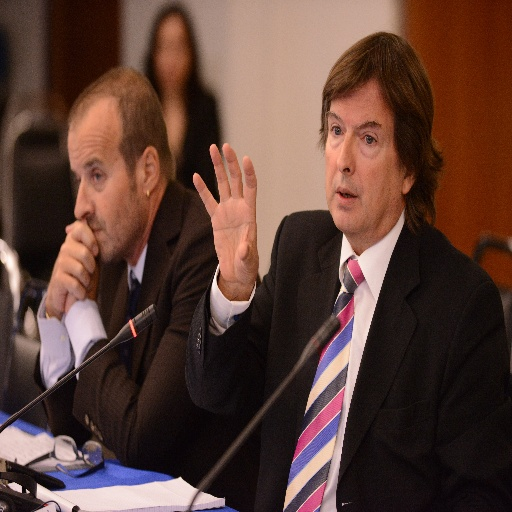hand: (202, 150, 266, 303), (45, 223, 98, 315), (64, 220, 97, 307)
